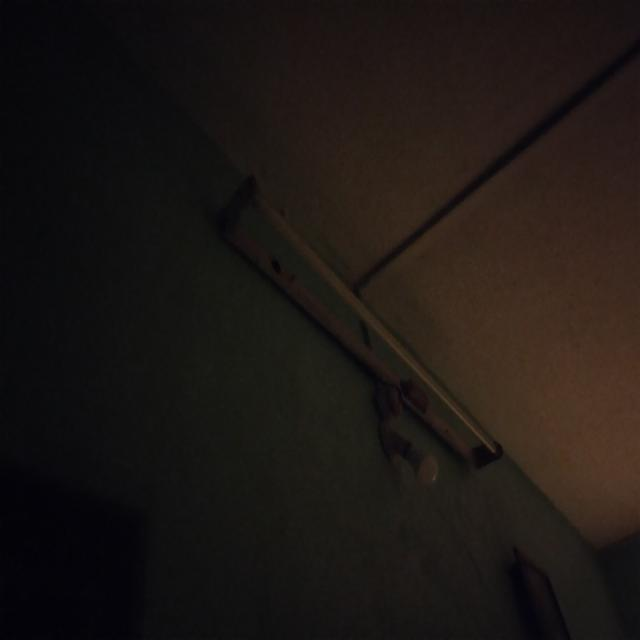tubelight_off: (207, 161, 512, 473)
